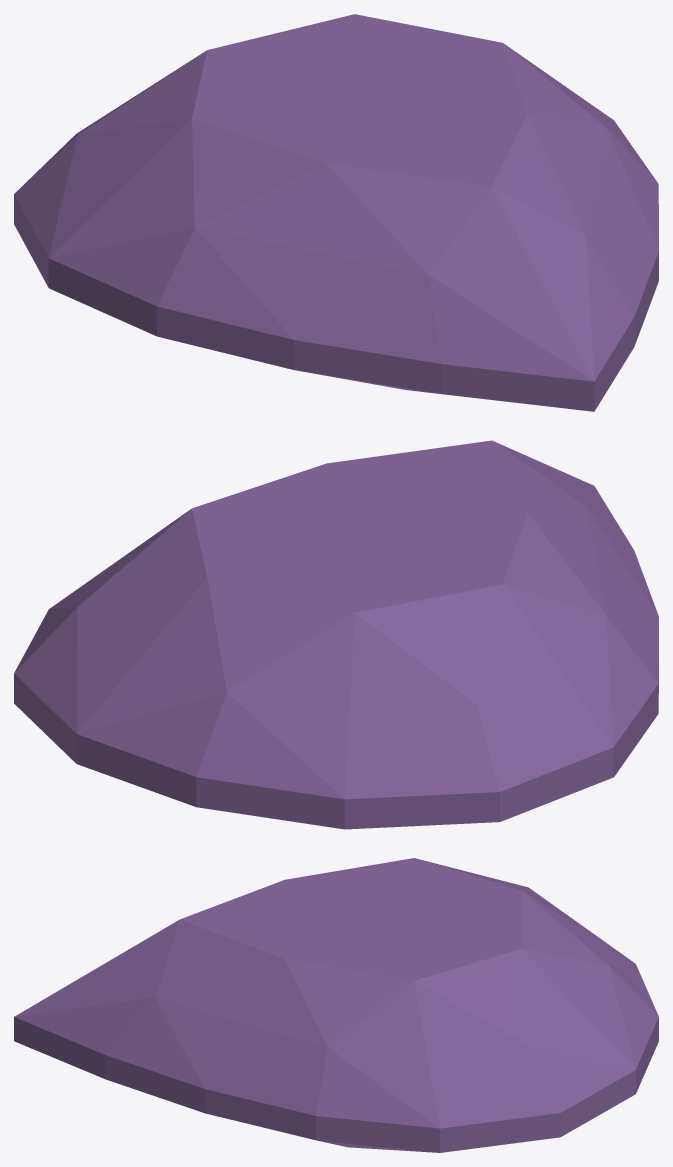
The model's file is cut-amethyst-494337.glb.
The picture shows the model from 3 angles, top to bottom: view 1: azimuth 30°, elevation 25°; view 2: azimuth 150°, elevation 25°; view 3: azimuth 270°, elevation 25°; orthographic projection. The views are drawn at different scales.
Parts seen in each view (by area): view 1: gem; view 2: gem; view 3: gem.
Part boxes in pixels (x1,y1,x2,y2): gem: (14, 14, 658, 411); gem: (14, 440, 658, 829); gem: (14, 858, 658, 1152).
Size of the model in its own units: 0.0984 by 0.045 by 0.12.
